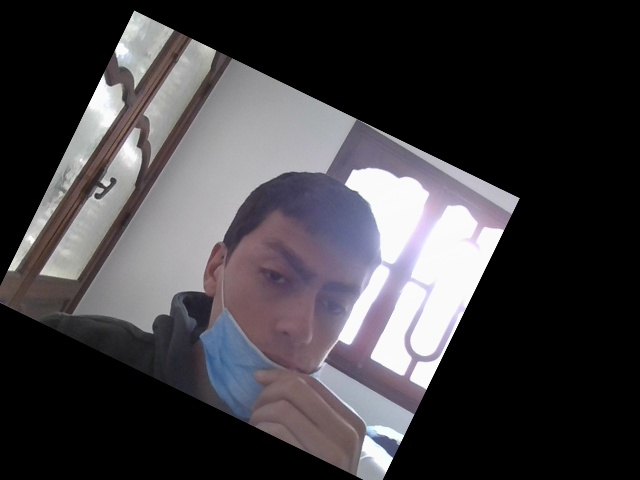mask_weared_incorrect: (216, 191, 368, 427)
